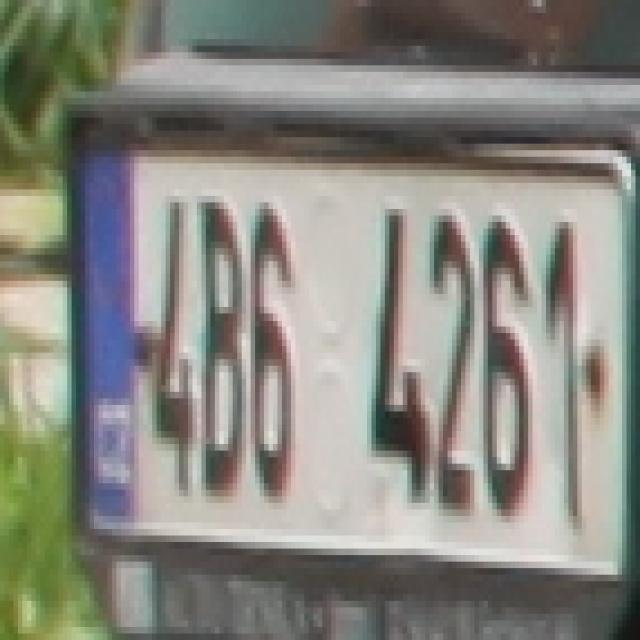1: (541, 215, 582, 529)
2: (434, 208, 479, 522)
4: (367, 202, 425, 503), (152, 196, 202, 497)
6: (246, 209, 304, 516), (474, 222, 532, 509)
B: (197, 189, 246, 496)
